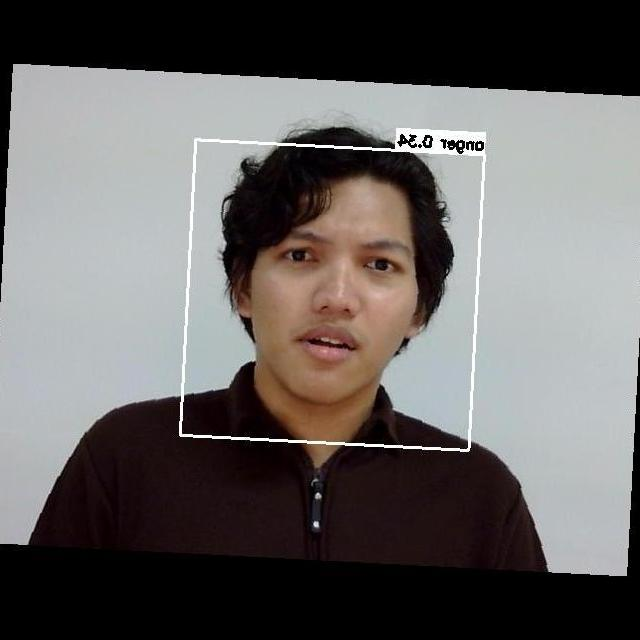Surprised: (245, 213, 432, 398)
